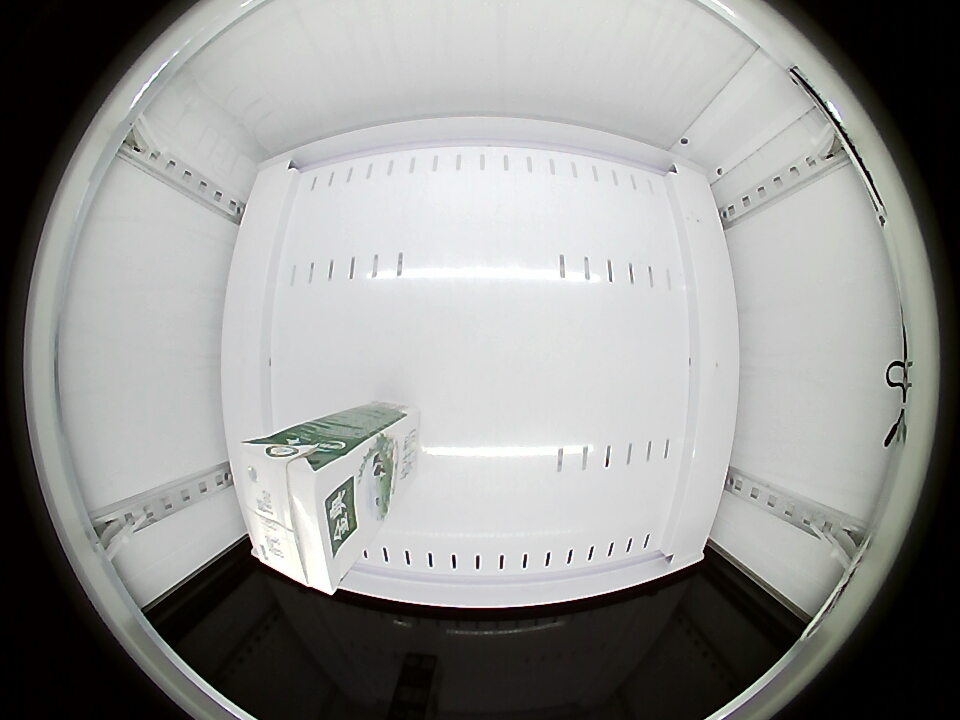jindian: (233, 431, 360, 595)
